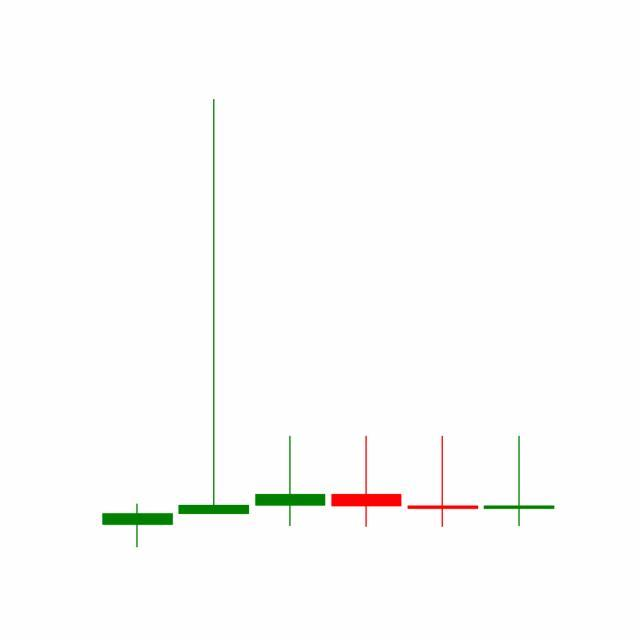Spinning Top: (404, 435, 482, 529)
